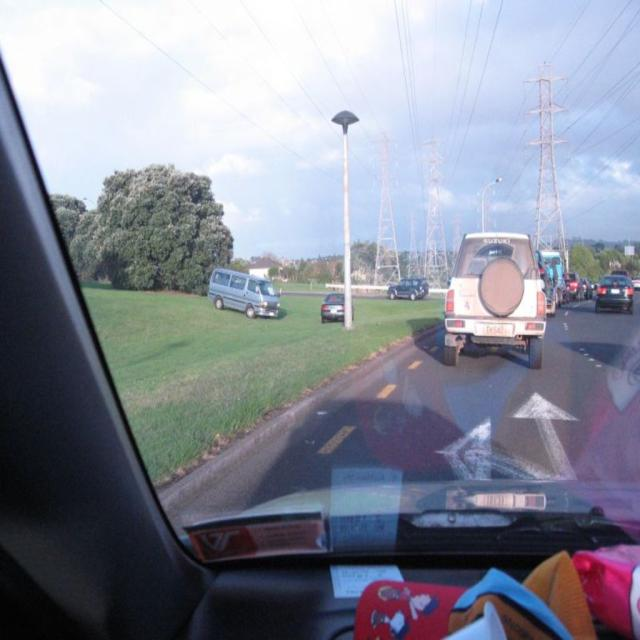car: (592, 273, 634, 314), (386, 275, 429, 302)
